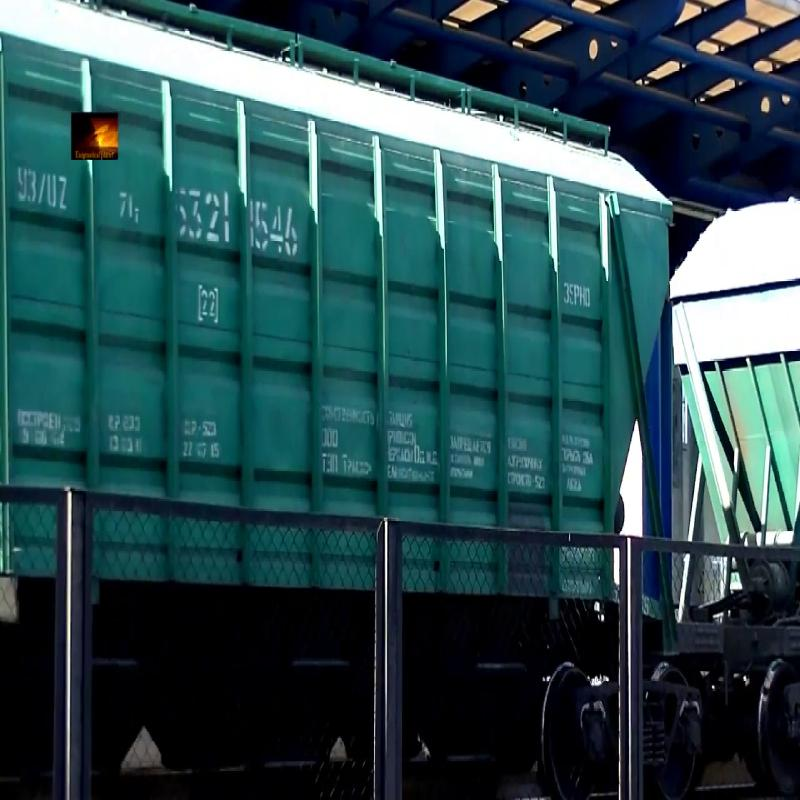train: (5, 7, 730, 778), (741, 9, 800, 781)
